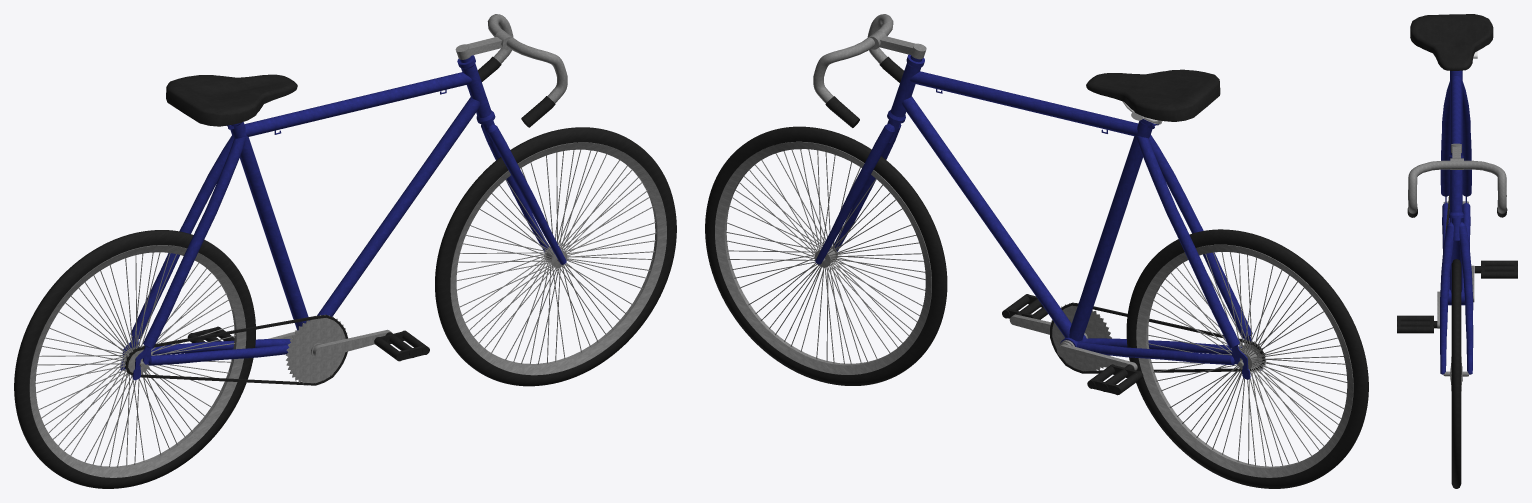
File: bicycle.fbx
3 renders of one model, left to right at view 1: azimuth 30°, elevation 25°; view 2: azimuth 150°, elevation 25°; view 3: azimuth 270°, elevation 25°, orthographic. The views are drawn at different scales.
Parts seen in each view (by area): view 1: Line019, Cylinder046, Cylinder044, Object007, Object006, Object004, Line009, Cylinder007, Line020, Cylinder008; view 2: Line019, Cylinder046, Cylinder044, Object007, Object006, Object004, Line009, Cylinder007, Line020, Object005, Cylinder008; view 3: Object004, Line019, Line009, Object007, Object005, Cylinder008, Cylinder007, Cylinder046.
Part boxes in pixels (x1,y1,x2,y2): Line019: (120, 55, 495, 380); Cylinder046: (450, 142, 666, 375); Cylinder044: (29, 245, 246, 477); Object007: (435, 127, 676, 386); Object006: (14, 230, 255, 488); Object004: (455, 14, 567, 264); Line009: (166, 74, 297, 126); Cylinder007: (268, 315, 392, 384); Line020: (125, 314, 347, 385); Cylinder008: (374, 330, 429, 361); Line019: (887, 54, 1262, 379); Cylinder046: (715, 141, 931, 374); Cylinder044: (1136, 244, 1353, 477); Object007: (705, 126, 947, 385); Object006: (1126, 229, 1368, 488); Object004: (813, 14, 926, 264); Line009: (1086, 69, 1220, 121); Cylinder007: (1009, 302, 1137, 371); Line020: (1050, 302, 1265, 373); Object005: (1087, 364, 1143, 395); Cylinder008: (1002, 294, 1047, 319); Object004: (1407, 143, 1507, 374); Line019: (1440, 70, 1471, 305); Line009: (1410, 14, 1493, 70); Object007: (1451, 259, 1461, 488); Object005: (1474, 260, 1517, 278); Cylinder008: (1397, 315, 1437, 333); Cylinder007: (1437, 265, 1474, 328); Cylinder046: (1443, 357, 1468, 390).
Size of the model in its own units: 230 by 126 by 43.9.
14 materials, 14 textured.
